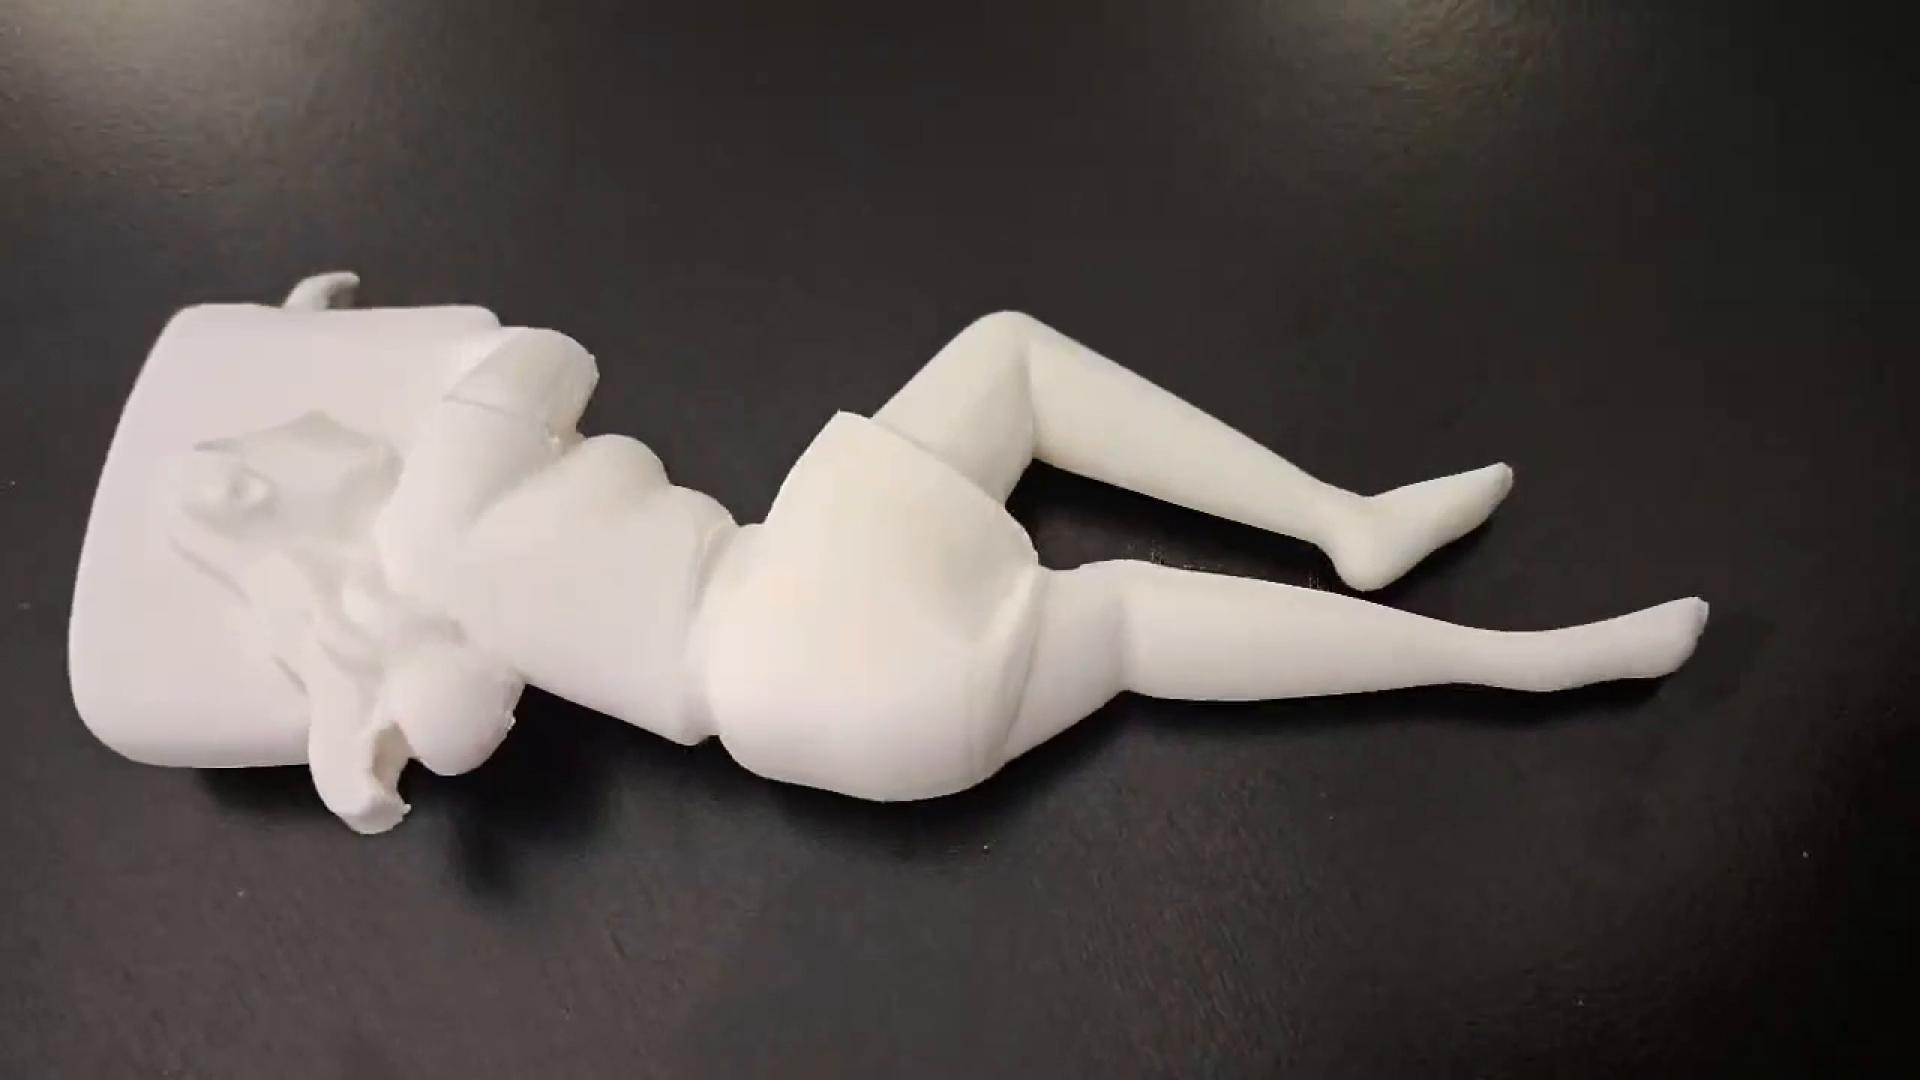Good-style: (51, 264, 1717, 848)
